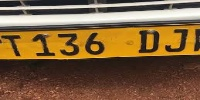T: (1, 34, 24, 57)
